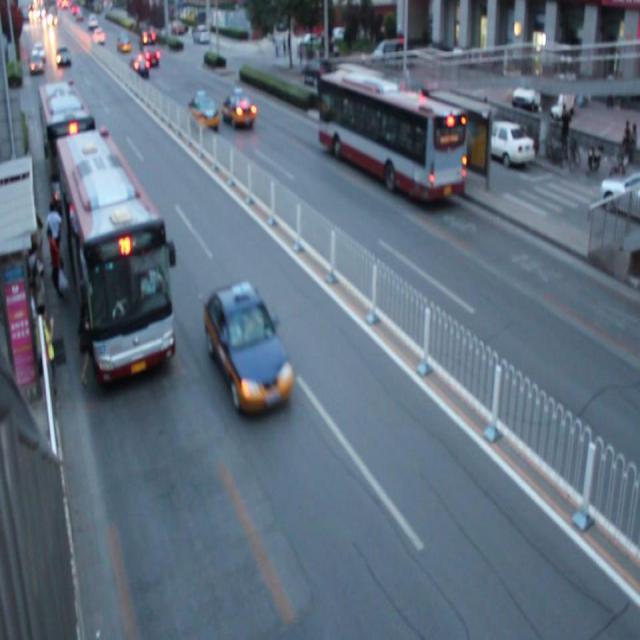car: (205, 282, 292, 413), (184, 94, 217, 132), (223, 91, 254, 131)
van: (56, 134, 176, 383), (319, 74, 464, 201), (37, 81, 96, 206)
